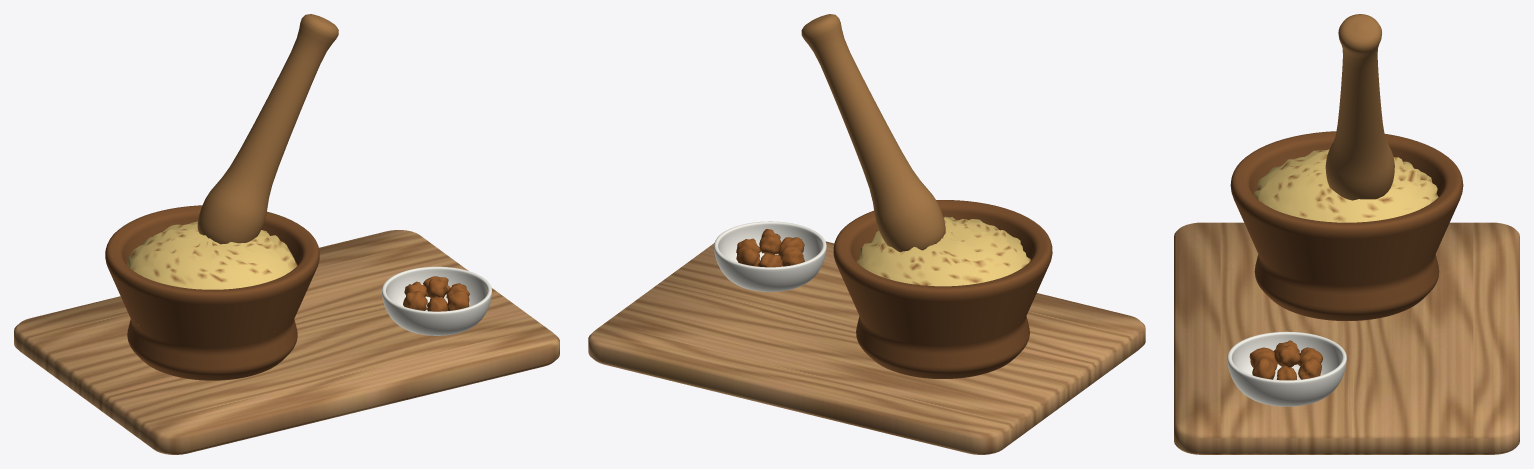
Rendered from paso-2.glb.
3 renders of one model, left to right at view 1: azimuth 30°, elevation 25°; view 2: azimuth 150°, elevation 25°; view 3: azimuth 270°, elevation 25°, orthographic. The views are drawn at different scales.
Visible parts, largest first — view 1: paso-2-0, paso-2-1, paso-2-3, paso-2-2, paso-2-4; view 2: paso-2-0, paso-2-1, paso-2-3, paso-2-2, paso-2-4; view 3: paso-2-0, paso-2-1, paso-2-3, paso-2-2, paso-2-4, paso-2-11, paso-2-10, paso-2-6.
Part boxes in pixels (x1,y1,x2,y2): paso-2-0: (14,230,559,454); paso-2-1: (105,205,319,380); paso-2-3: (197,14,338,244); paso-2-2: (127,221,297,325); paso-2-4: (382,266,491,335); paso-2-0: (588,241,1145,454); paso-2-1: (833,200,1052,378); paso-2-3: (801,14,945,252); paso-2-2: (856,216,1030,322); paso-2-4: (714,221,826,291); paso-2-0: (1174,222,1519,454); paso-2-1: (1230,131,1463,320); paso-2-3: (1325,14,1394,200); paso-2-2: (1253,149,1438,222); paso-2-4: (1227,331,1346,406); paso-2-11: (1274,344,1300,367); paso-2-10: (1252,358,1275,379); paso-2-6: (1298,358,1321,379).
Bounding box in the file's own units: 0.38 × 0.2906 × 0.26.
6 materials, 1 textured.
